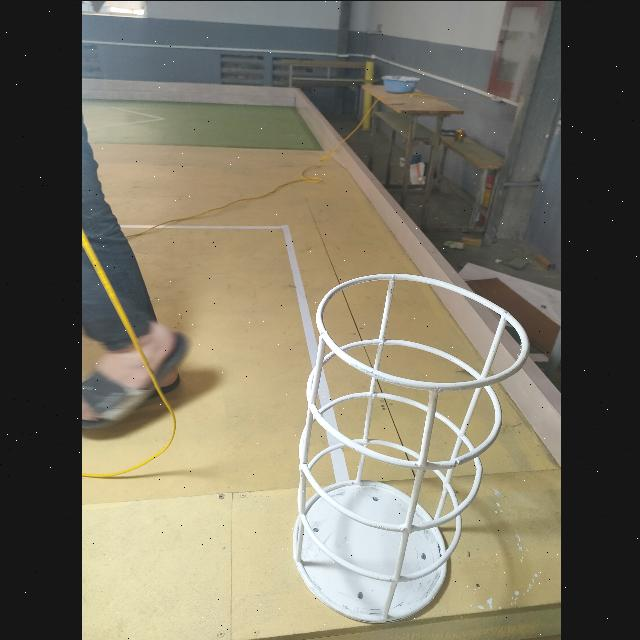S: (283, 268, 536, 627)
